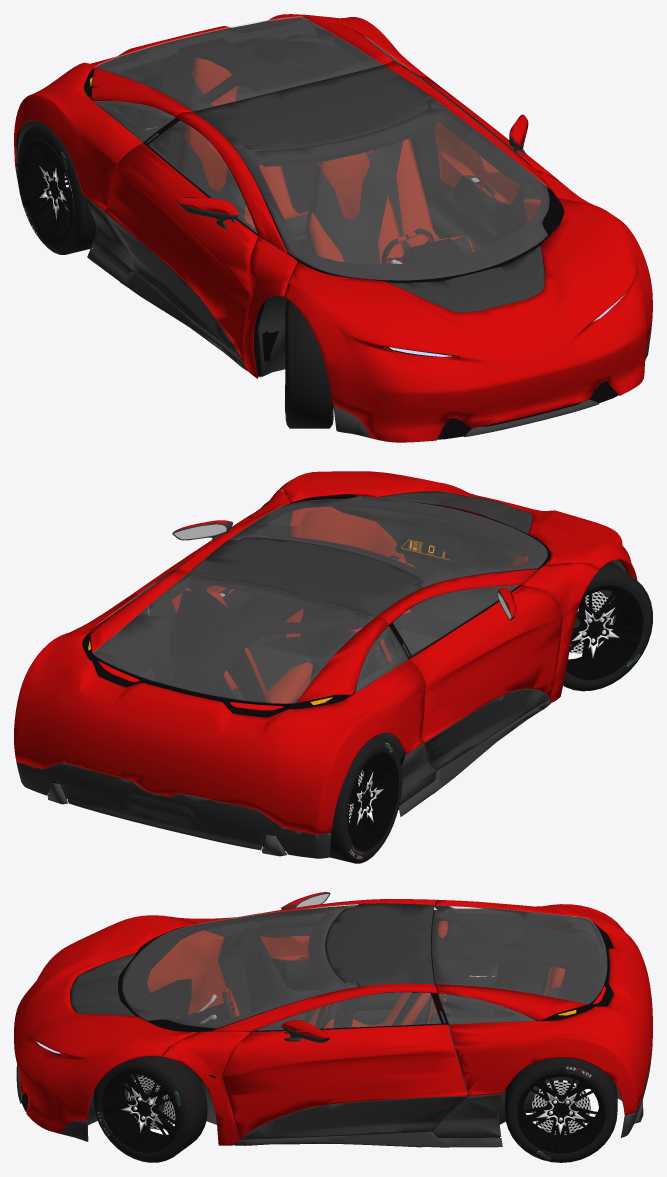
The model's file is voiture-haut.glb.
3 views of the same model, one above another, from view 1: azimuth 30°, elevation 25°; view 2: azimuth 150°, elevation 25°; view 3: azimuth 270°, elevation 25° (orthographic). The views are drawn at different scales.
Visible parts, largest first — view 1: object 11, object 2, object 10, object 3, object 4, object 5, object 7, WheelFrontR_3, WheelRearR_2, WheelRearR_3, object 1, object 6 (+1 smaller); view 2: object 11, object 2, object 10, object 3, object 4, object 5, WheelFrontR_1, WheelRearR_2, WheelRearR_3, WheelFrontR_3, object 7, object 9 (+3 smaller); view 3: object 11, object 2, object 10, object 3, object 4, object 5, WheelFrontL_3, object 6, WheelRearL_2, WheelFrontL_1, WheelRearL_3, object 1 (+4 smaller).
Part boxes in pixels (x1,y1,x2,y2): object 11: [14, 14, 652, 442]; object 2: [94, 16, 549, 280]; object 10: [15, 65, 651, 438]; object 3: [16, 17, 618, 439]; object 4: [16, 19, 527, 356]; object 5: [185, 57, 541, 355]; object 7: [180, 78, 471, 264]; WheelFrontR_3: [285, 299, 333, 428]; WheelRearR_2: [20, 140, 73, 241]; WheelRearR_3: [17, 124, 96, 254]; object 1: [16, 78, 520, 377]; object 6: [93, 171, 558, 375]; object 11: [14, 471, 637, 834]; object 2: [92, 496, 547, 703]; object 10: [16, 491, 550, 858]; object 3: [52, 494, 627, 782]; object 4: [48, 502, 528, 850]; object 5: [170, 493, 528, 703]; WheelFrontR_1: [566, 585, 643, 679]; WheelRearR_2: [347, 752, 398, 851]; WheelRearR_3: [329, 736, 402, 863]; WheelFrontR_3: [563, 562, 652, 691]; object 7: [176, 610, 437, 701]; object 9: [395, 533, 462, 565]; object 11: [14, 892, 652, 1145]; object 2: [122, 904, 606, 1030]; object 10: [16, 892, 652, 1147]; object 3: [19, 901, 612, 1144]; object 4: [118, 905, 613, 1025]; object 5: [147, 920, 565, 1028]; WheelFrontL_3: [93, 1054, 207, 1162]; object 6: [204, 921, 499, 1143]; WheelRearL_2: [517, 1073, 605, 1153]; WheelFrontL_1: [102, 1070, 178, 1152]; WheelRearL_3: [505, 1057, 617, 1162]; object 1: [87, 911, 643, 1125].
Size of the model in its own units: 2.54 by 1.15 by 4.36.
Materials: 20 (5 with a texture image).
